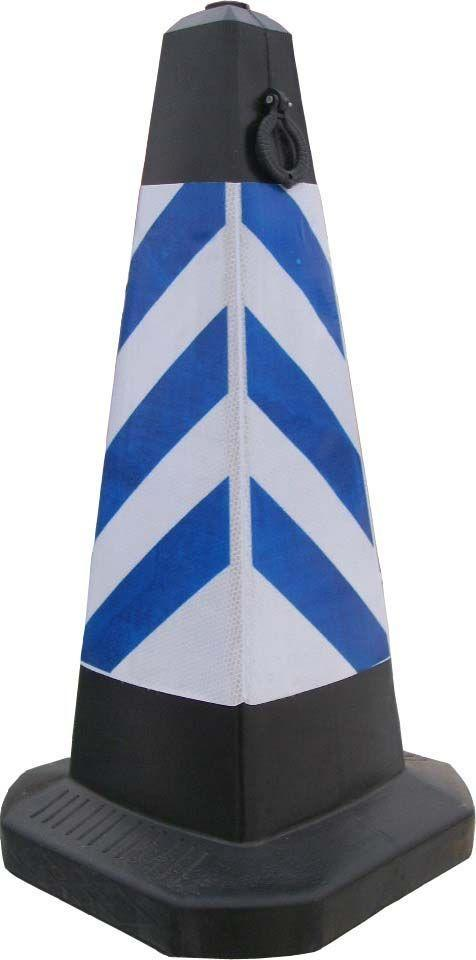cone_barrel: (37, 16, 438, 872)
